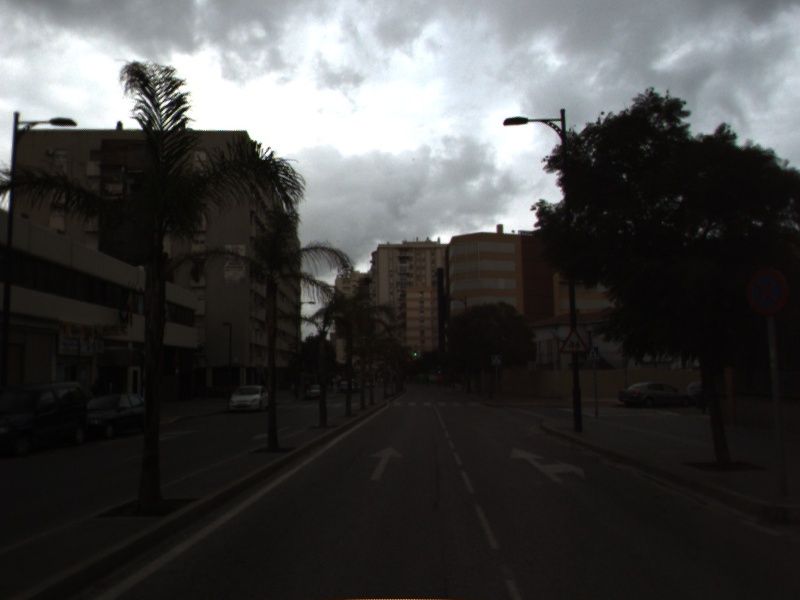STRAIGHT: (367, 445, 406, 483)
STRAIGHT_RIGHT: (508, 445, 587, 483)
